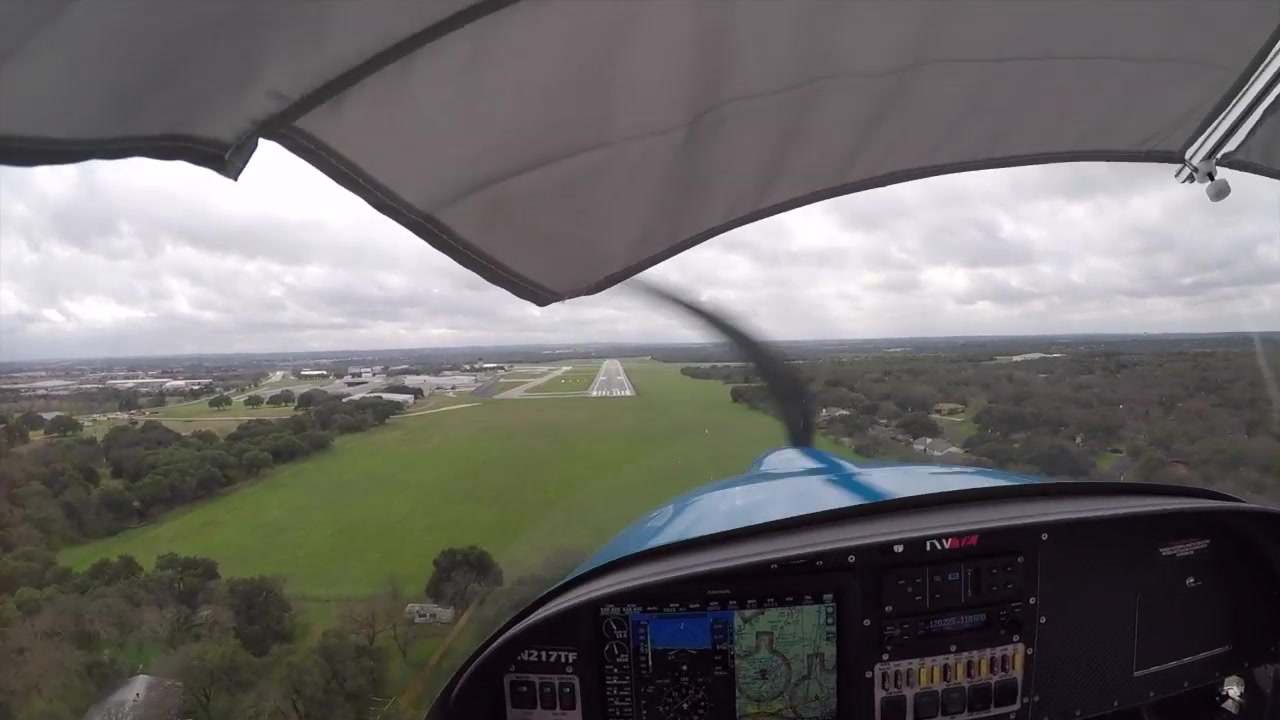entrance: (592, 388, 631, 397)
runway: (587, 358, 637, 399)
